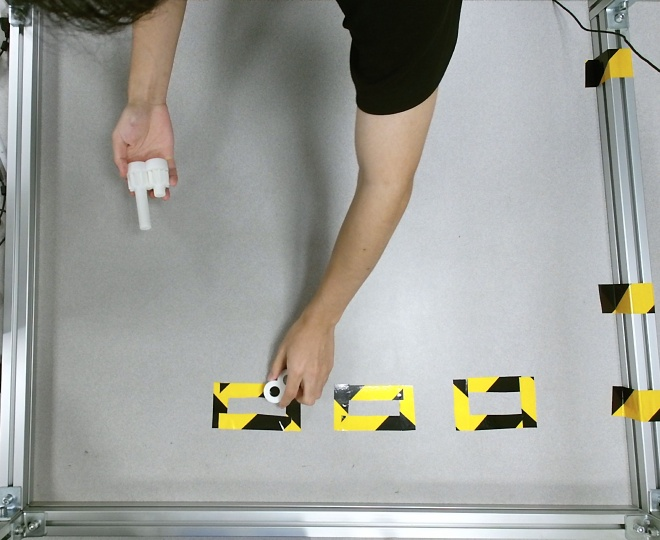stage_3: (126, 158, 169, 232)
